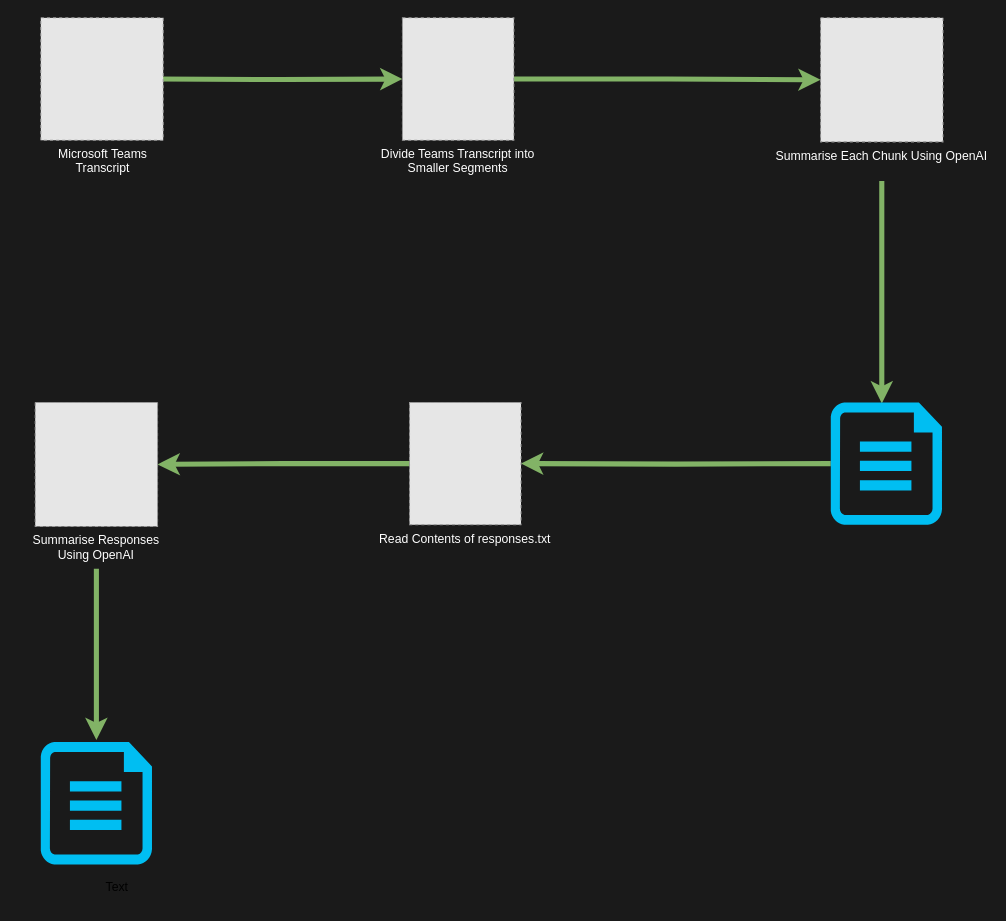
Some shapes in this 1006 by 921 pixel diagram are drawn without their labels. Grey dashed boxes stand in for pictures. Each missing label, with the centre of its shape:
"Each Chunk response saved to responses.txt" goes at (885,463).
"Summarise Teams Transcript to final_summary.txt" goes at (95,803).
